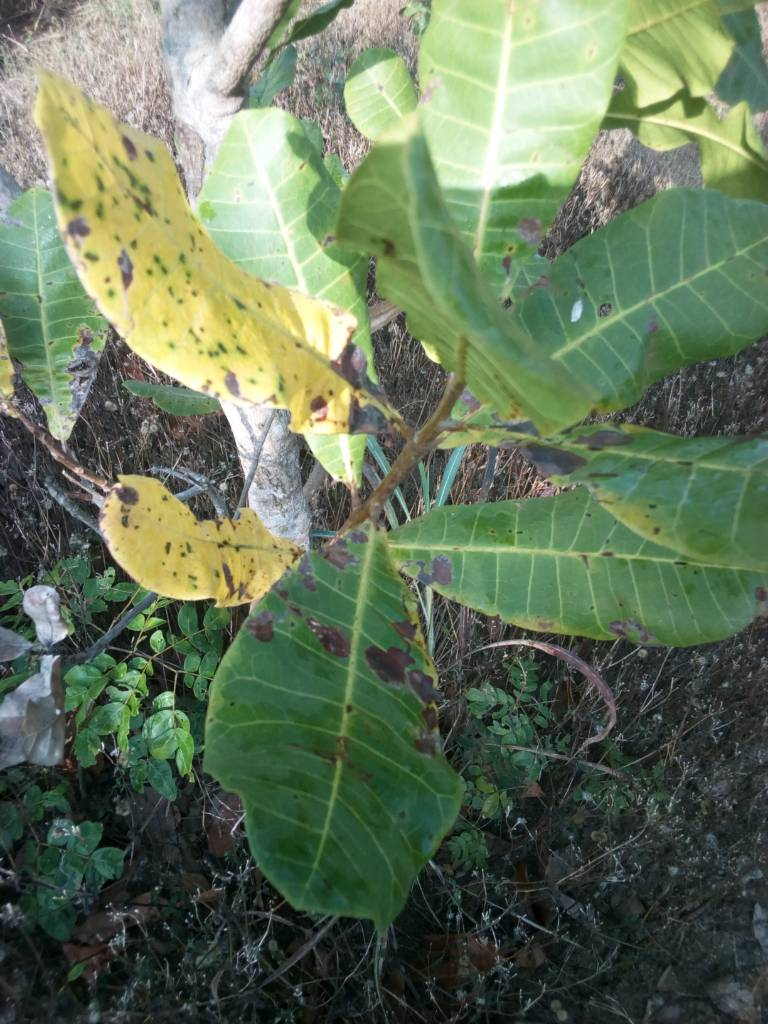Bactériose: (41, 75, 410, 442), (224, 516, 440, 908), (472, 422, 768, 639), (91, 480, 313, 608)
